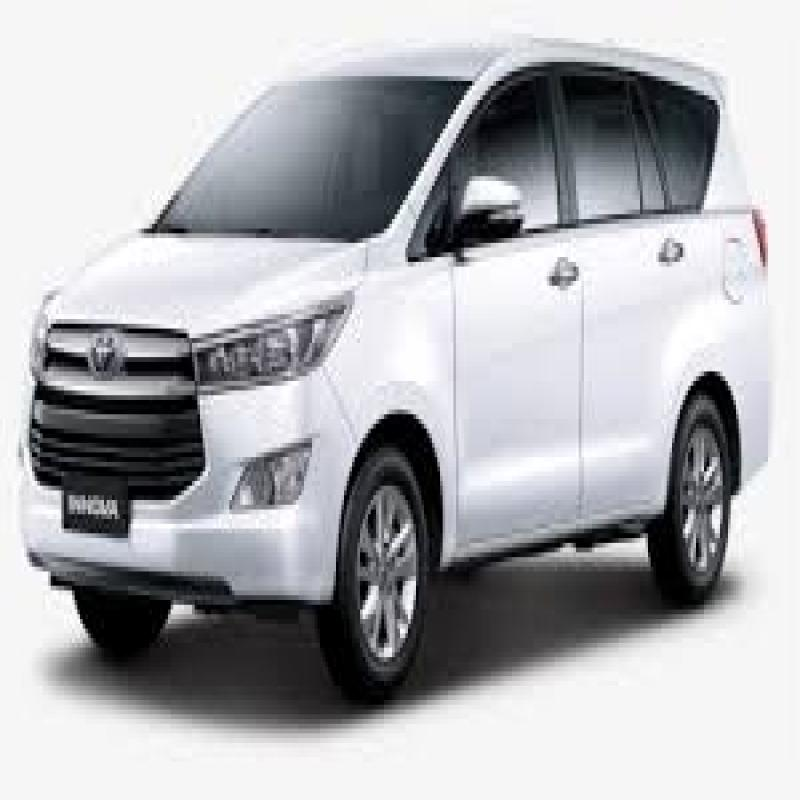car: (18, 27, 776, 683)
